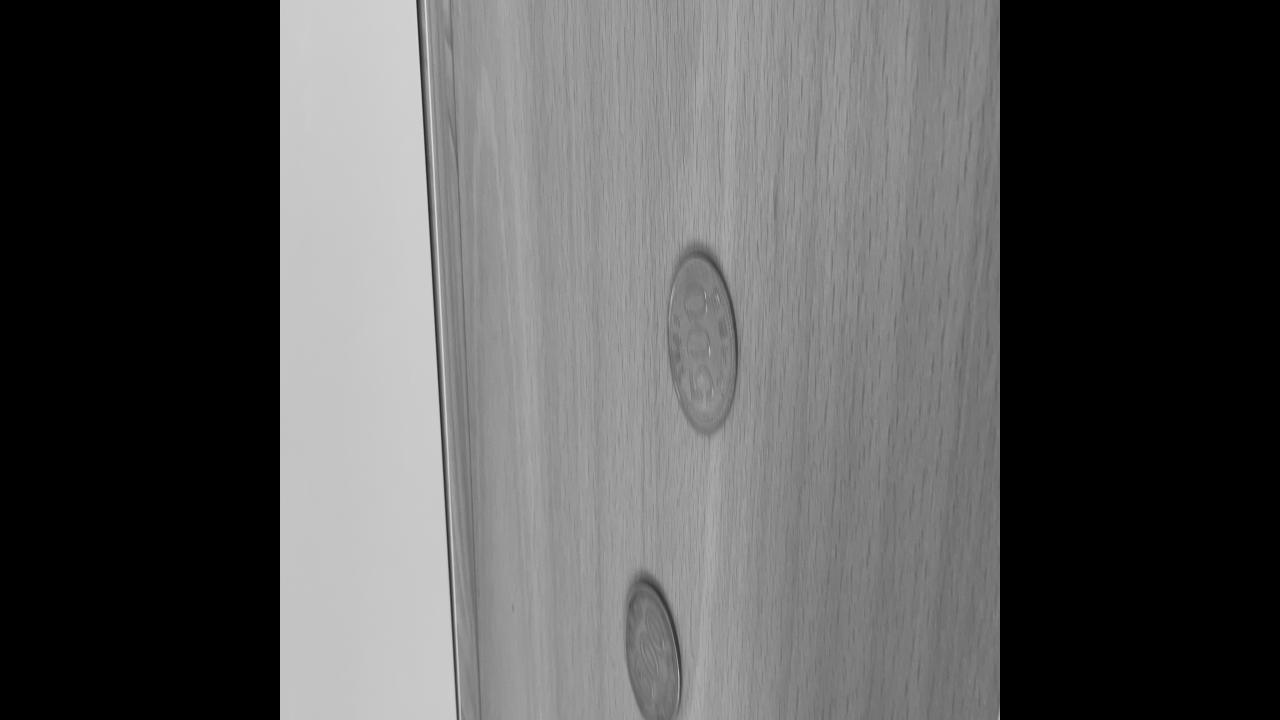coin: (666, 253, 738, 437), (620, 573, 684, 720)
